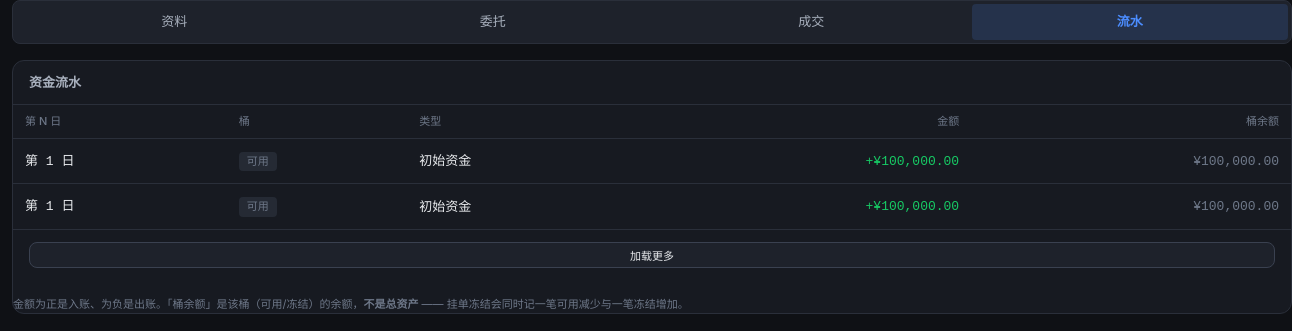
我的 · 分页表 › ⚠️ 末页后隐藏「加载更多」
Check: the element with test id "paged-table" is shown, box [13,105,1291,280]
Step 1. Click the button with test id "paged-more" → (652, 255), box [29,242,1275,268]
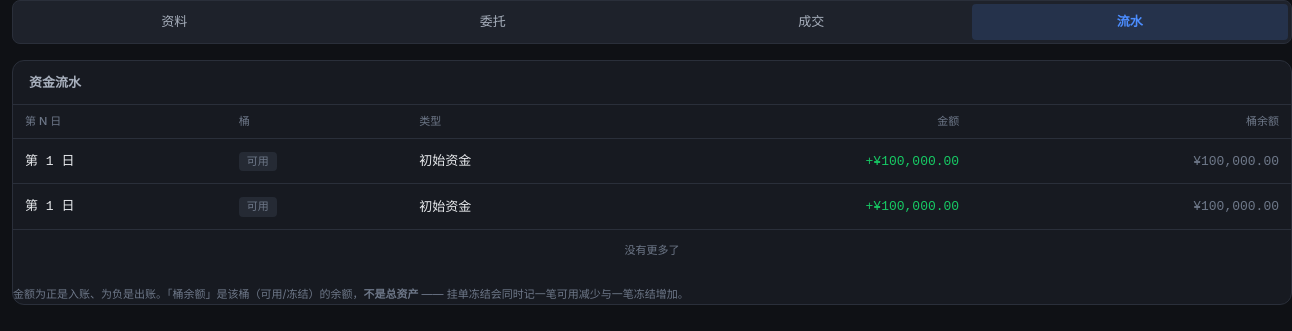
Check: the button with test id "paged-more" is gone
